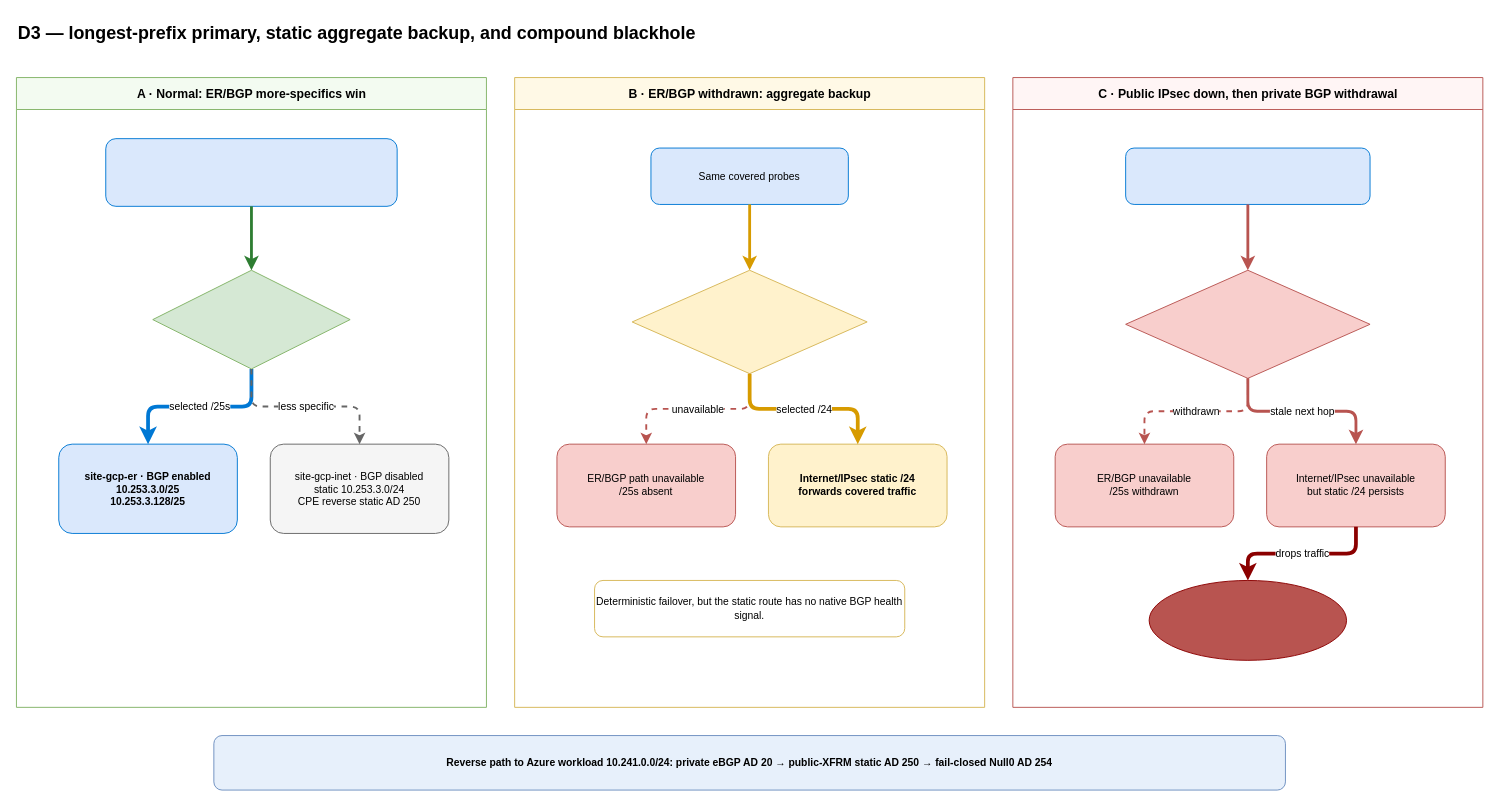
This 1499x807 diagram has some shape labels left out. The centre of each missing label's shape, as x and y in pixels:
"Azure workload probes 10.253.3.0/25 and 10.253.3.128/25" belongs at point 251,172.
"BLACKHOLE Route exists; forwarding path does not" belongs at point 1247,620.
"Both /25 routes withdrawn /24 becomes longest remaining match" belongs at point 749,321.
"Covered probes after both failures" belongs at point 1247,175.
"Stale static /24 still installed and remains the longest available match" belongs at point 1247,323.
"vWAN route choice /25 beats covering /24" belongs at point 251,319.
